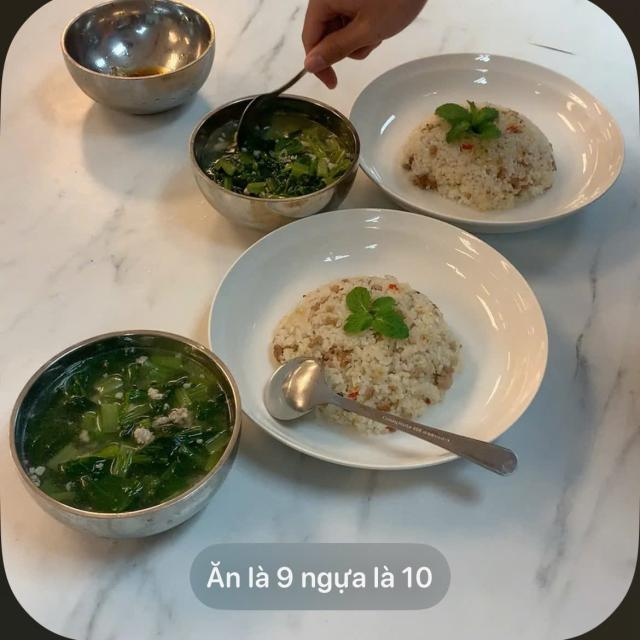canh_cai: (50, 376, 201, 484), (219, 117, 344, 191)
